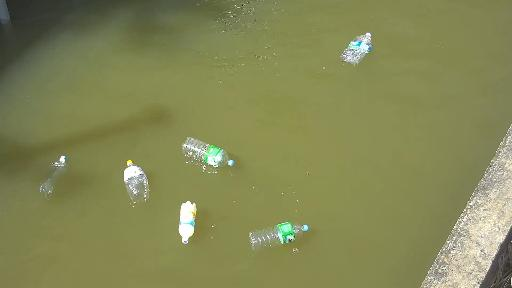plastic: (183, 132, 240, 170), (336, 28, 381, 67), (247, 217, 305, 246), (35, 153, 65, 199), (173, 194, 204, 235), (123, 158, 143, 202)
